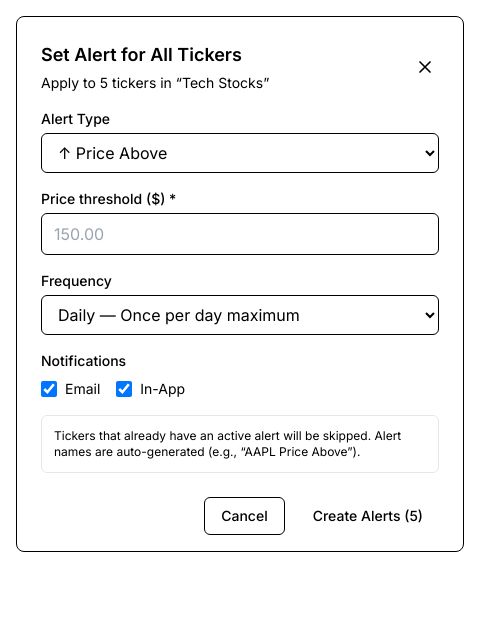
Test case: BulkAlertModal — Validation › shows error for negative threshold
Type "-5" into the number field labelled "Price threshold ($) *" at (240, 234), box [41, 213, 439, 255]
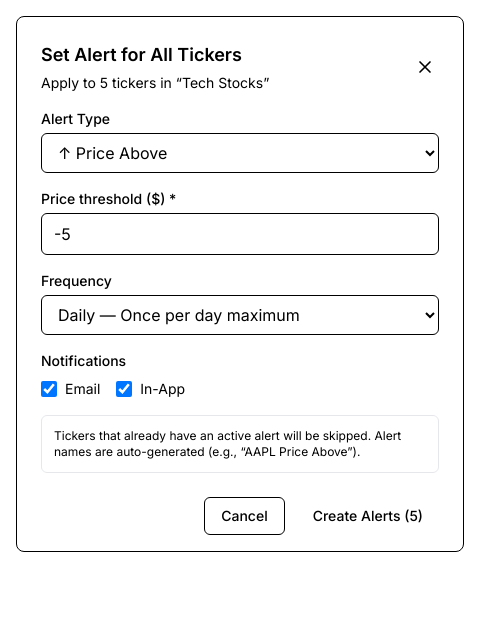
Submit the form from the button "Create Alerts (5)", box [297, 498, 439, 534]
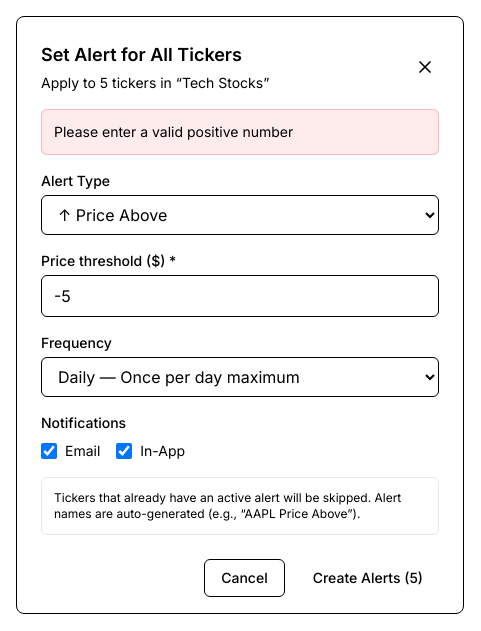
Check: the text "Please enter a valid positive number" is shown, box [54, 123, 293, 140]
